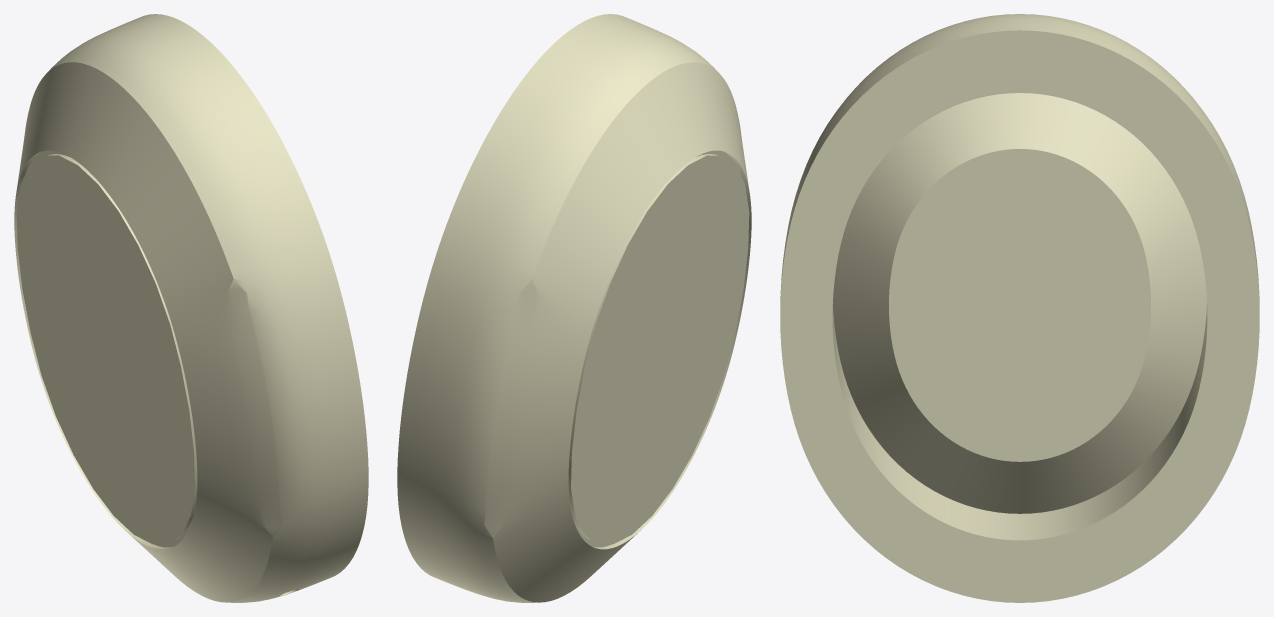
Rendered from NoiréEarpieceWithJack.glb.
3 views of the same model, side by side, from view 1: azimuth 30°, elevation 25°; view 2: azimuth 150°, elevation 25°; view 3: azimuth 270°, elevation 25° (orthographic). The views are drawn at different scales.
Visible parts, largest first — view 1: Circle.006; view 2: Circle.006; view 3: Circle.006.
Boxes of the visible parts, bbox=[...] form: Circle.006: bbox=[14, 14, 368, 602]; Circle.006: bbox=[397, 14, 751, 602]; Circle.006: bbox=[780, 14, 1259, 602].
Size of the model in its own units: 0.9002 by 2.41 by 1.94.
